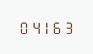four: (29, 20, 39, 34)
one: (40, 20, 50, 34)
six: (51, 20, 61, 34)
three: (62, 20, 72, 34)
zero: (18, 20, 28, 34)
